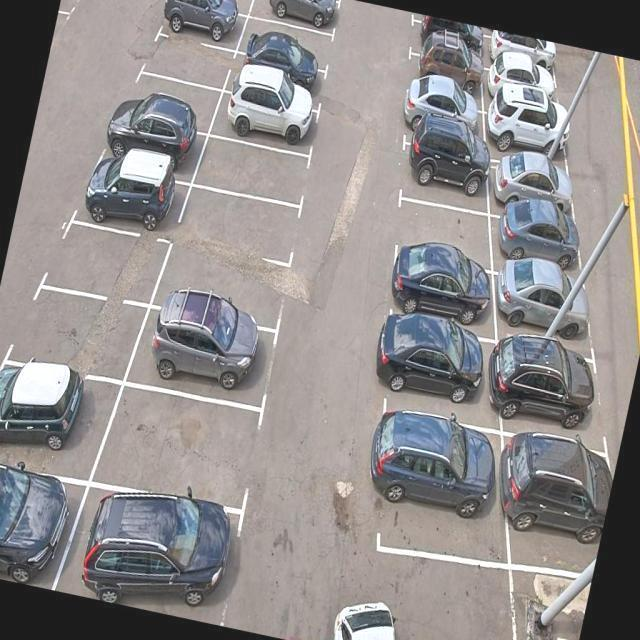space-empty: (95, 379, 258, 509), (170, 174, 305, 276), (17, 280, 145, 383), (155, 238, 293, 322), (45, 215, 169, 308), (193, 124, 318, 203), (134, 29, 234, 94), (127, 72, 215, 133), (236, 17, 336, 67), (168, 0, 258, 19)
space-occupied: (63, 480, 247, 626), (365, 407, 503, 573), (500, 427, 620, 592), (126, 293, 283, 412), (0, 355, 113, 480), (369, 314, 498, 413), (380, 238, 499, 325), (0, 458, 75, 590), (498, 340, 600, 437), (492, 258, 596, 346), (72, 157, 187, 236), (213, 86, 325, 155), (394, 135, 495, 210), (104, 109, 210, 177), (492, 200, 586, 272), (486, 148, 581, 214), (479, 96, 572, 156), (398, 82, 488, 143), (231, 48, 335, 99), (404, 42, 489, 97), (402, 14, 489, 65), (483, 62, 562, 117), (155, 0, 244, 48), (482, 34, 563, 77), (252, 0, 348, 35), (57, 0, 92, 22)
